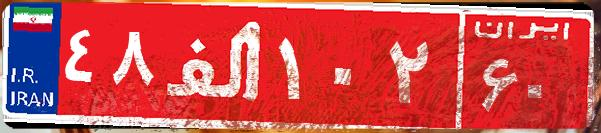0: (330, 28, 385, 110), (525, 38, 570, 115)
1: (273, 28, 330, 110)
2: (385, 28, 445, 110)
4: (57, 26, 110, 107)
6: (475, 38, 525, 113)
8: (110, 28, 158, 105)
الف: (158, 15, 273, 115)
